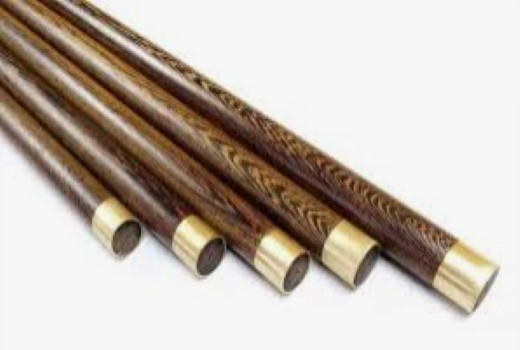baston_v: (413, 203, 508, 331), (308, 195, 394, 299), (227, 199, 311, 298), (75, 175, 146, 276), (163, 195, 230, 298)
